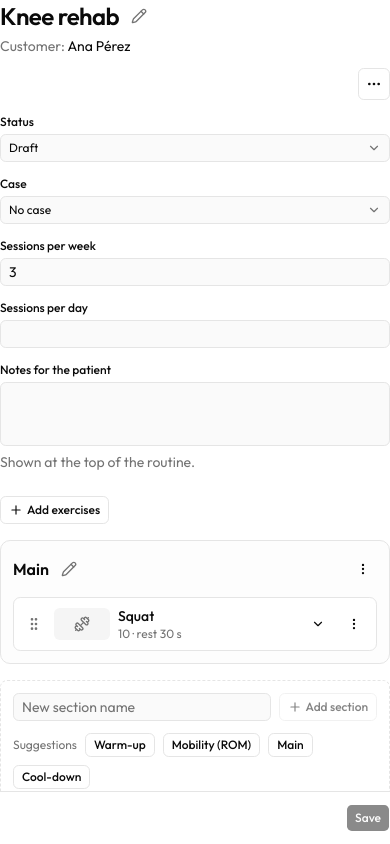
Scenario: RoutineEditor › counts what this sheet added, confirms each pick and marks the rows
Click the button "Add exercises": coordinates (55, 510) [0,496,109,524]
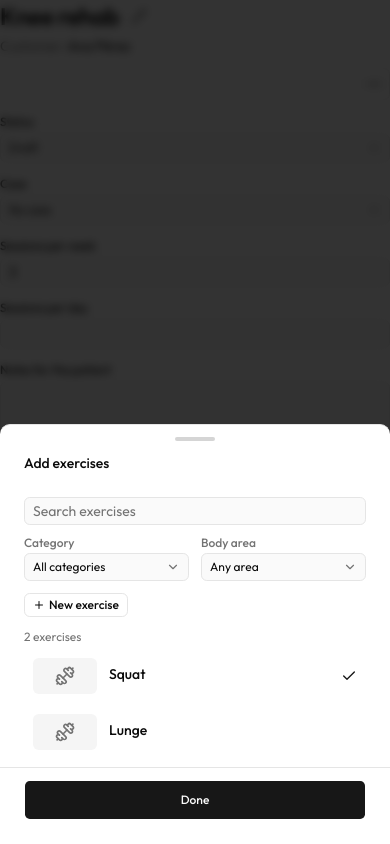
Expected: the button "Done" is shown, [24,780,366,820]
Click the button "Lunge": coordinates (65, 732) [24,705,366,759]
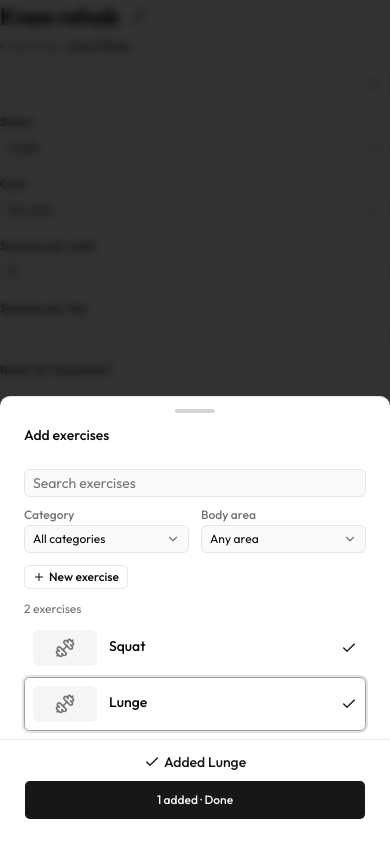
Expected: the button "1 added · Done" is shown, [24,780,366,820]
Expected: the element with test id "picker-flash" reads "Added Lunge", [164,753,246,771]
Click the button "Squat": coordinates (65, 648) [24,621,366,675]
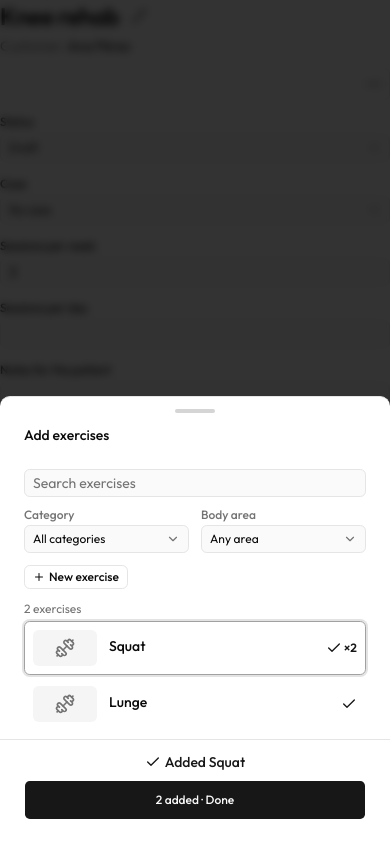
Expected: the element with test id "picker-flash" reads "Added Squat", [165,753,245,771]
Click the button "2 added · Done": coordinates (195, 800) [24,780,366,820]
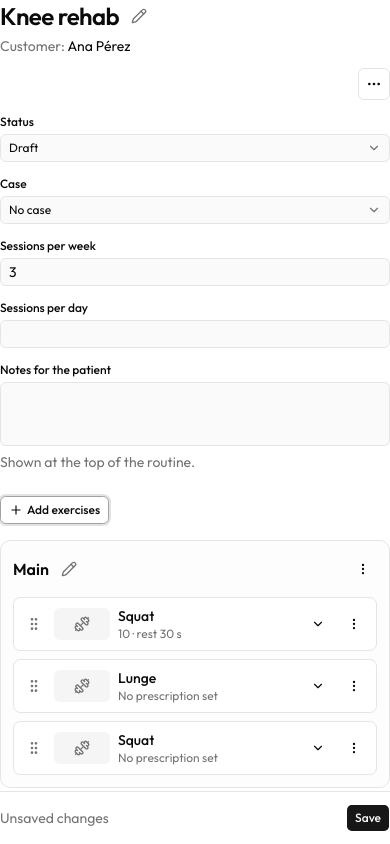
Expected: the dialog is gone
Click the button "Add exercises": coordinates (55, 510) [0,496,109,524]
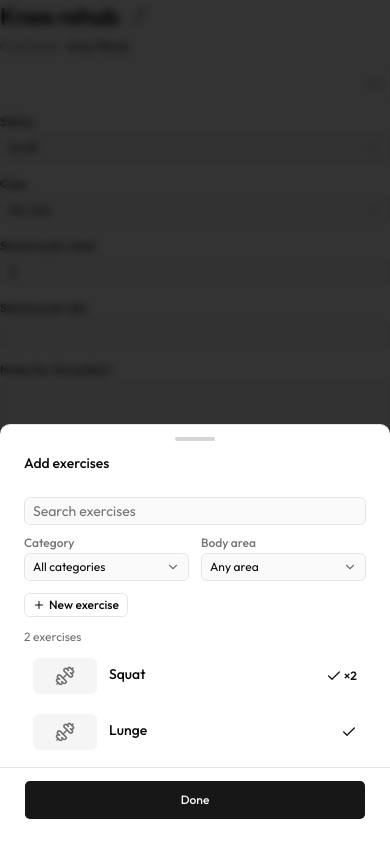
Expected: the button "Done" is shown, [24,780,366,820]
